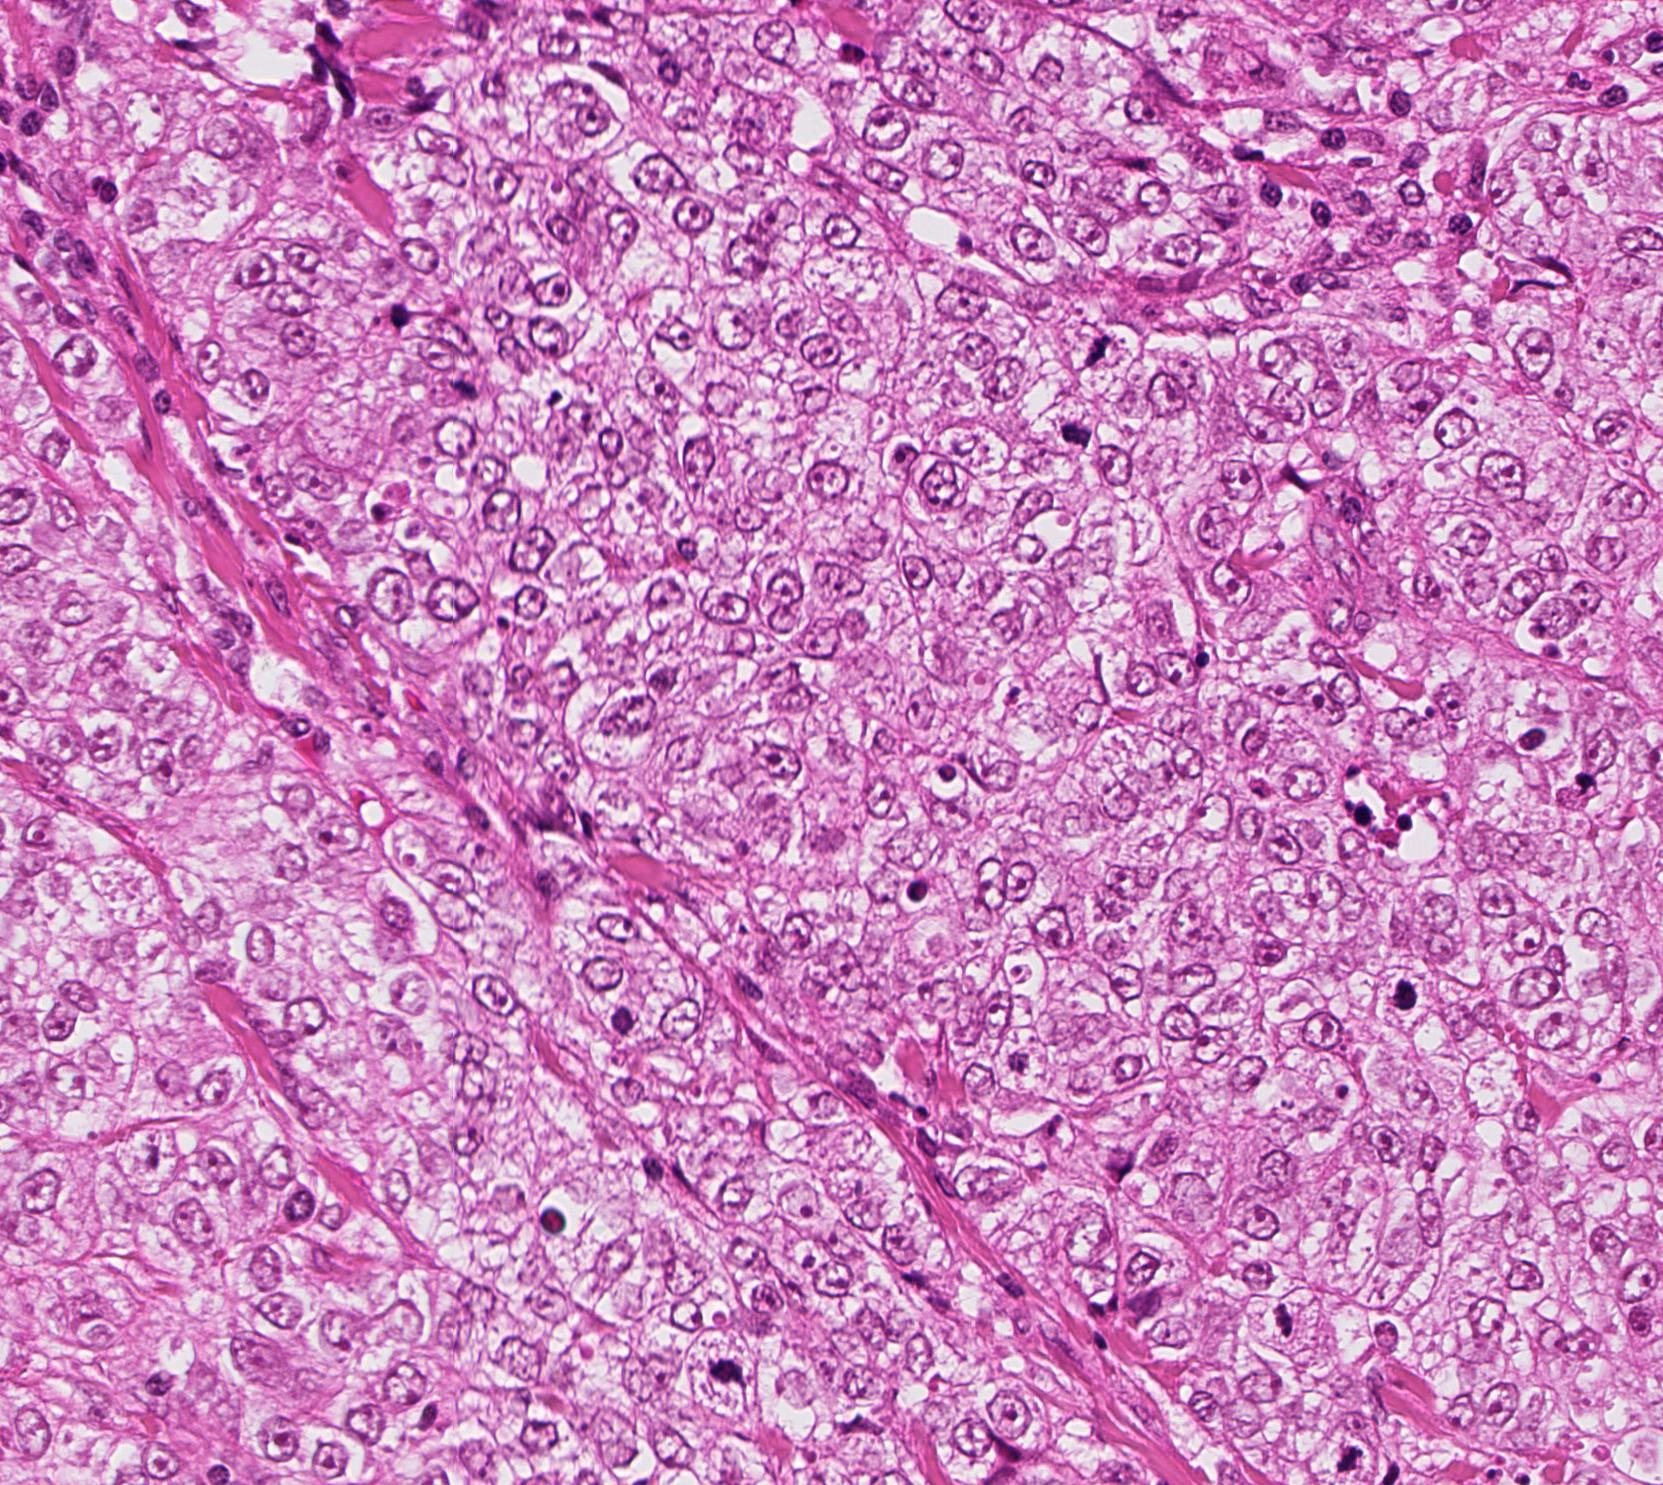mitosis: (1373, 958, 1434, 1018), (1071, 311, 1131, 371), (695, 1342, 756, 1400), (1037, 406, 1095, 464)
